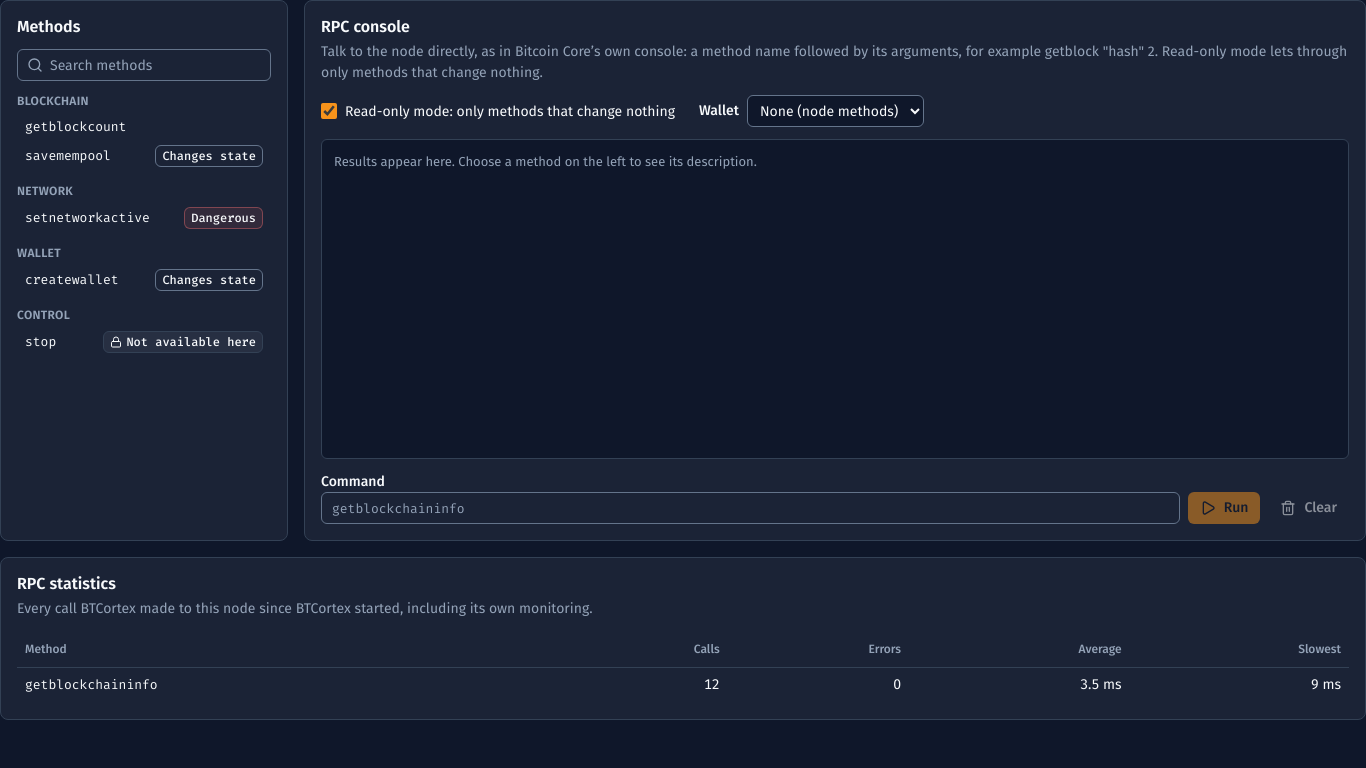
Test: RPC console › runs read methods and shows the result
Expected: the element "Blockchain" is shown, [17,93,271,170]
Type "getblockcount" into the field labelled "Command" at (750, 508), box [321,492,1180,524]
Then press Enter
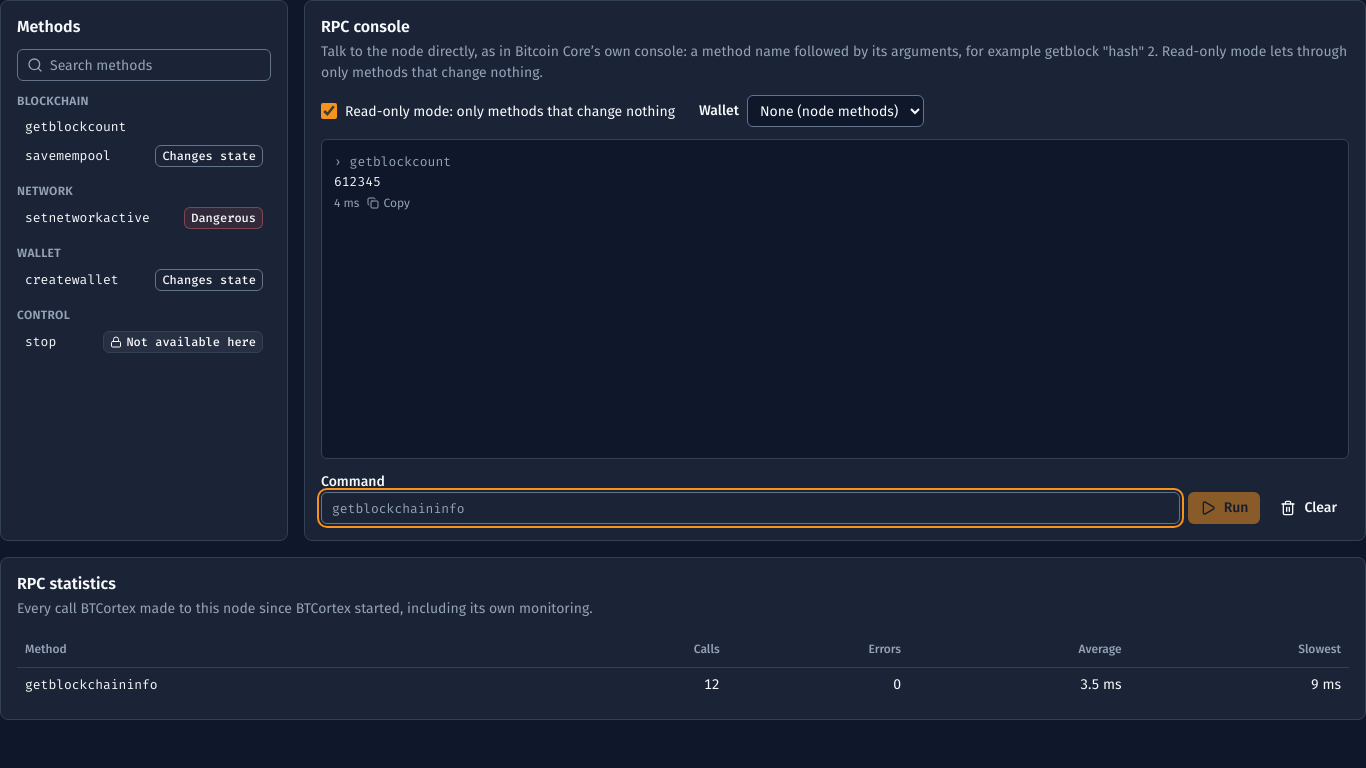
Now the text "612345" is shown, box [334,172,381,190]
